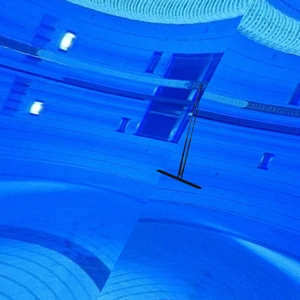circle: (156, 84, 203, 190)
